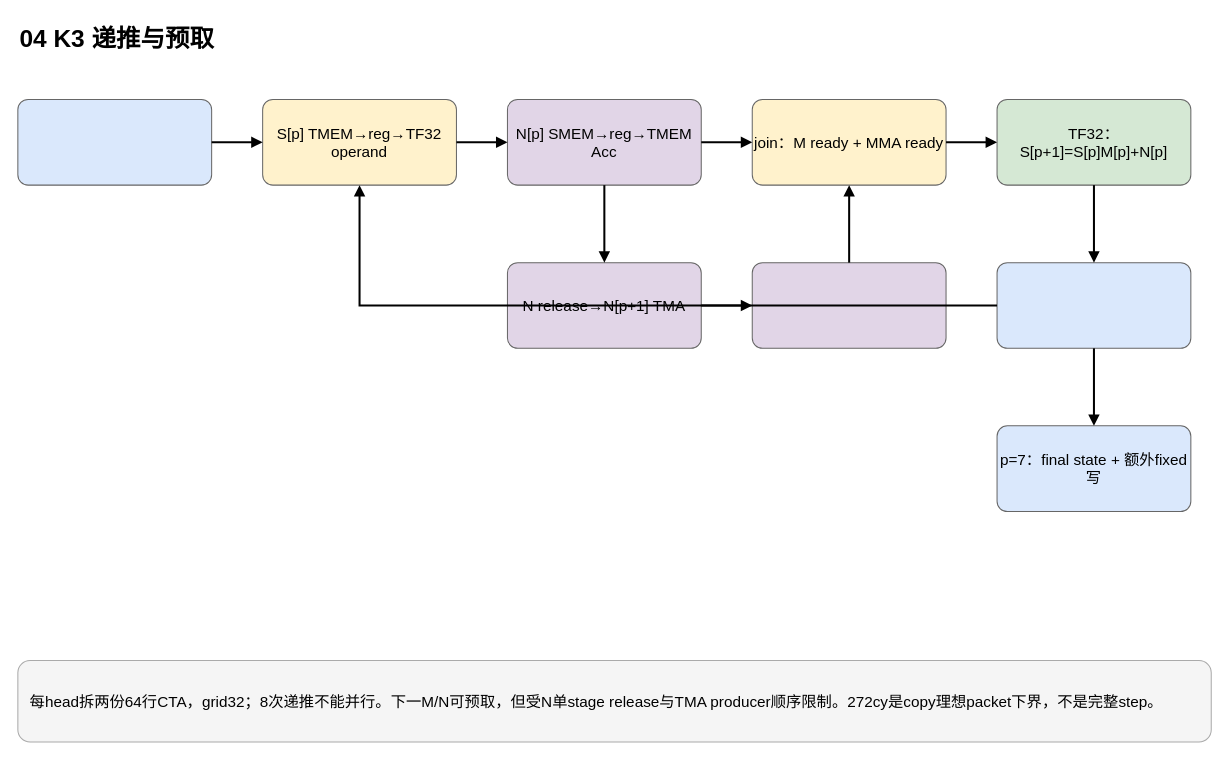
Image size: 1229x760. Some labels were removed from this diagram. The centre of each missing label's shape, as x and y in pixels:
"fixed-state写回 / 下一p" goes at point (1093, 305).
"M[p+1] TMA（M2stage,N1stage）" goes at point (848, 305).
"加载S0 / 写initial workspace" goes at point (114, 141).
